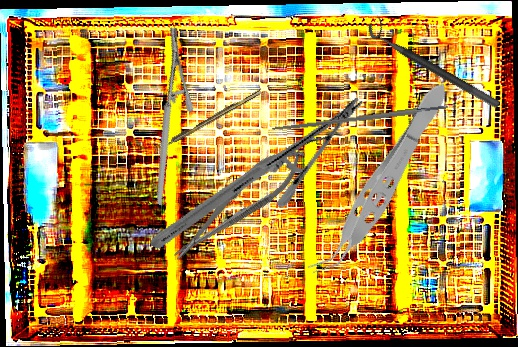Fixation Ring: (362, 13, 508, 110)
Hook Surgical: (155, 89, 263, 152)
Needle Holder: (149, 44, 364, 302), (102, 25, 230, 206), (162, 134, 315, 273)
Scalpel Handle: (271, 104, 450, 133)
Tissue Forceps: (304, 73, 460, 290)
